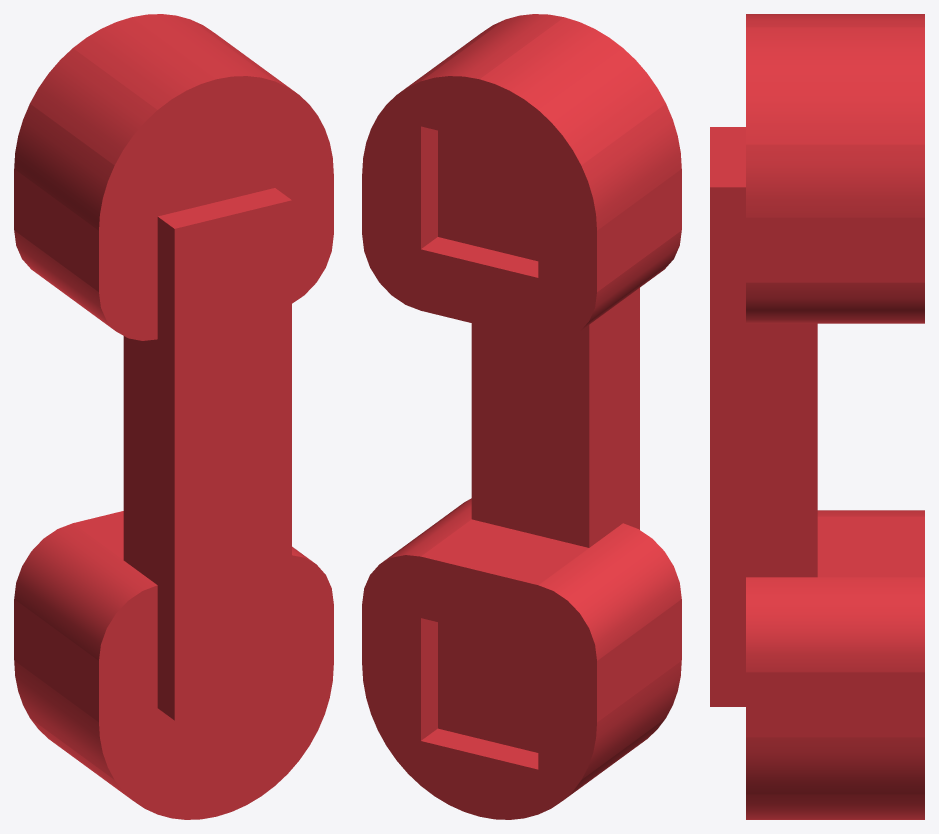
The model's file is phone_handle.glb.
The picture shows the model from 3 angles, left to right: view 1: azimuth 30°, elevation 25°; view 2: azimuth 150°, elevation 25°; view 3: azimuth 270°, elevation 25°; orthographic projection. The views are drawn at different scales.
Visible parts, largest first — view 1: generated(Clone); view 2: generated(Clone); view 3: generated(Clone).
Part boxes in pixels (x1,y1,x2,y2): generated(Clone): (14,14,333,819); generated(Clone): (362,14,681,819); generated(Clone): (710,14,924,819).
Bounding box in the file's own units: 4 × 12 × 3.
Materials: 1 (1 with a texture image).
